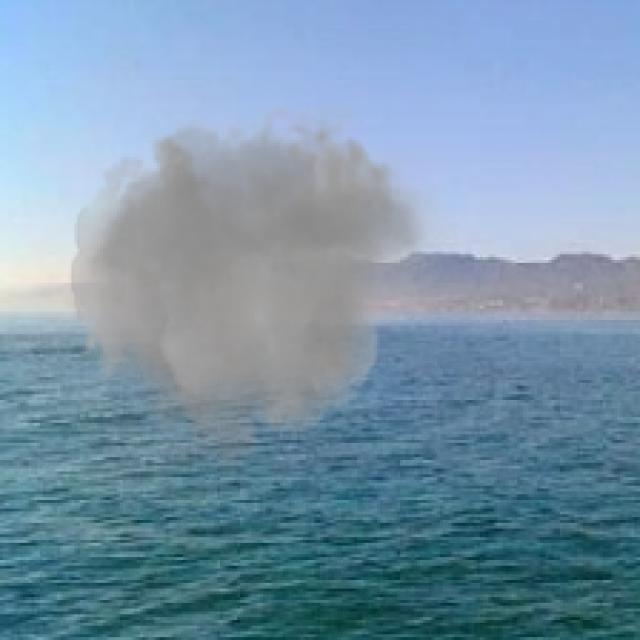smoke: (60, 86, 457, 483)
